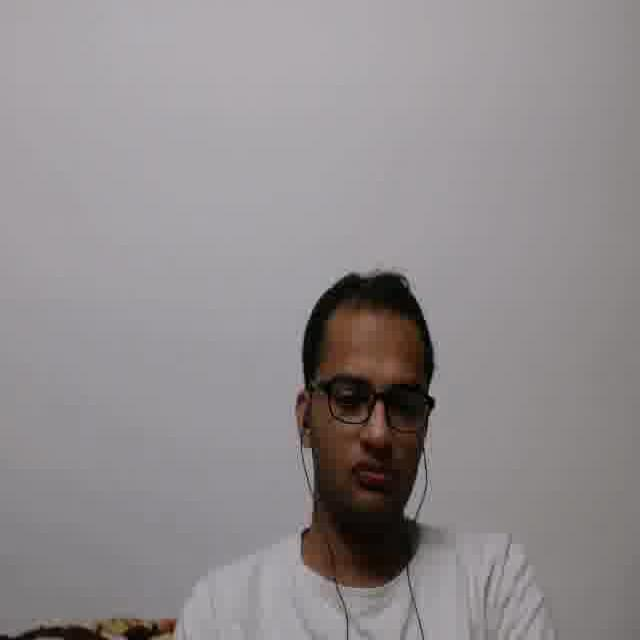Boredom: (311, 320, 423, 516)
